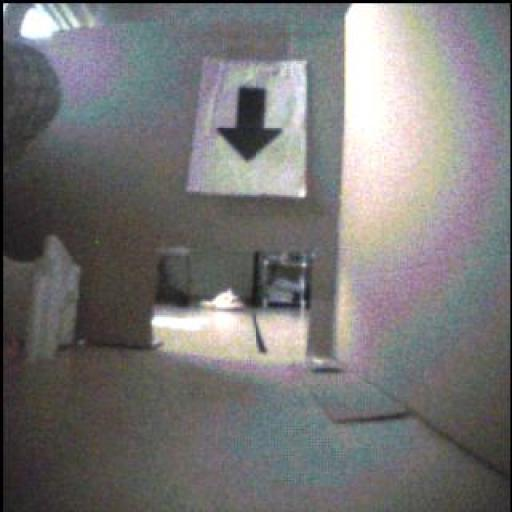arrow: (219, 89, 283, 163)
